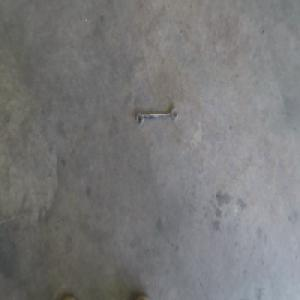Wrench: (134, 108, 178, 128)
